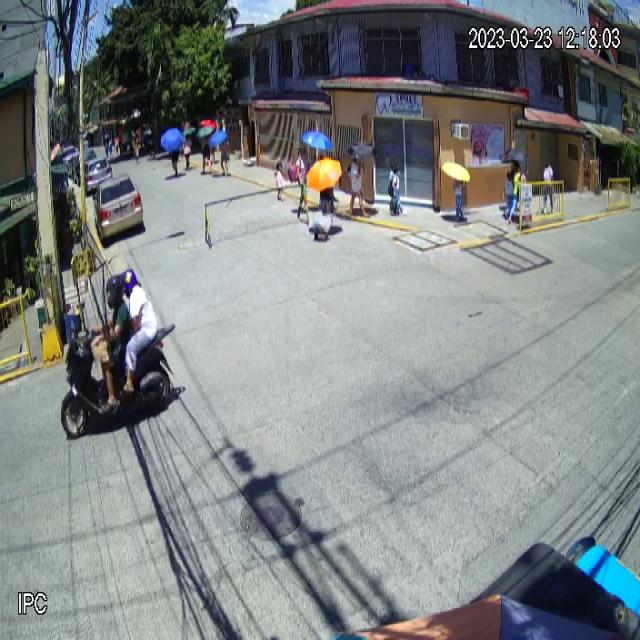Car: (92, 173, 143, 243)
Motorcycle: (60, 320, 177, 439)
